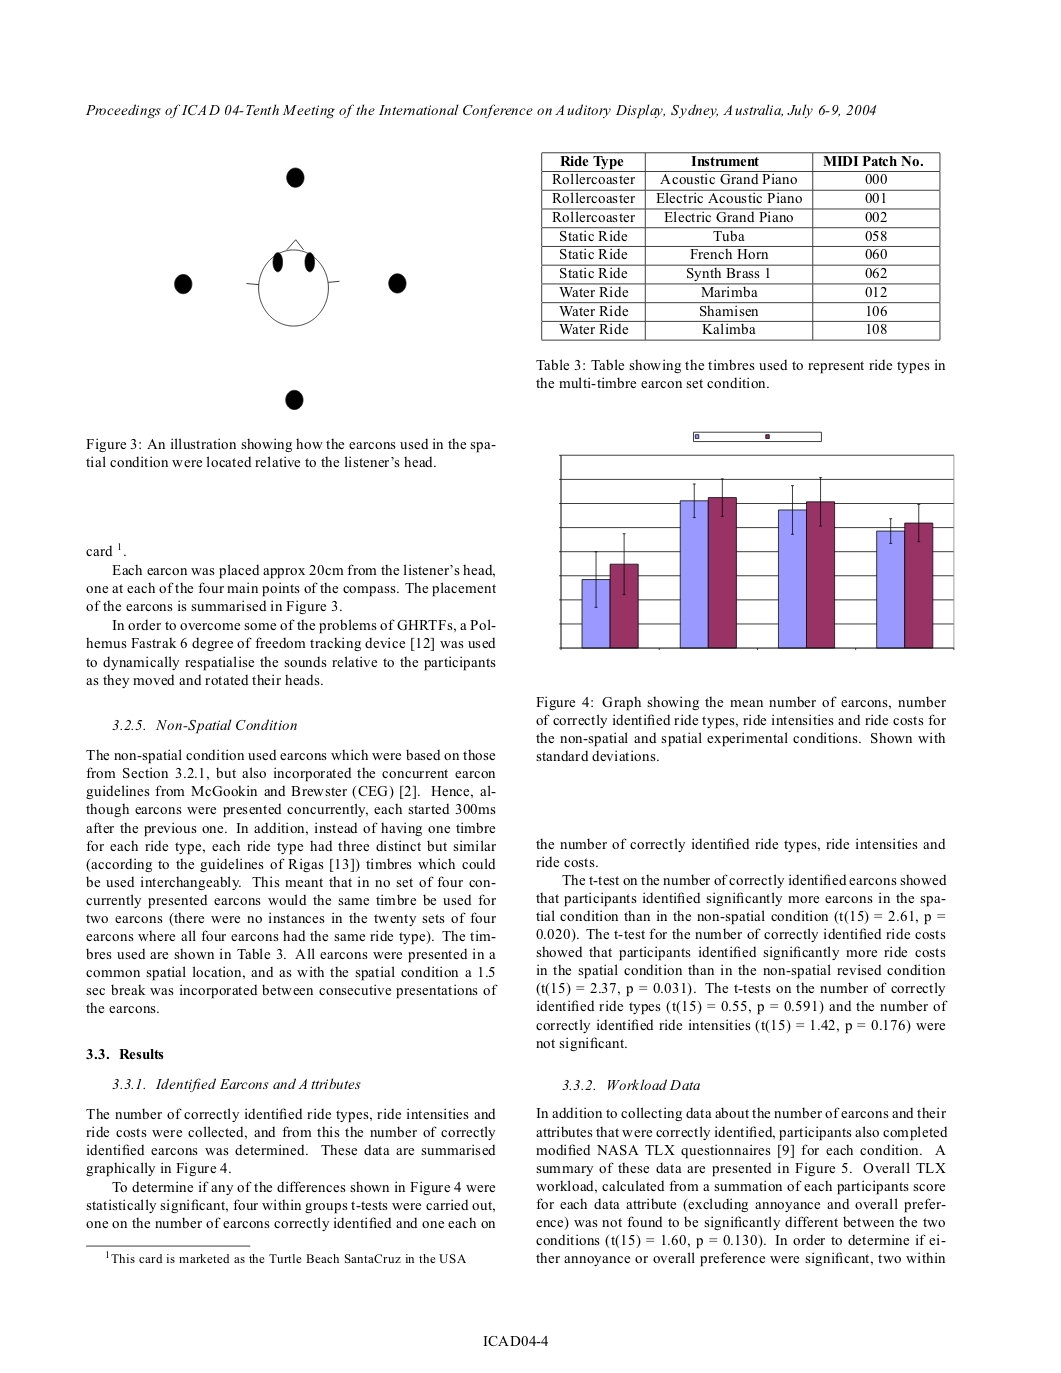Table: (541, 150, 940, 341)
figure: (559, 431, 954, 649), (174, 167, 406, 409)
